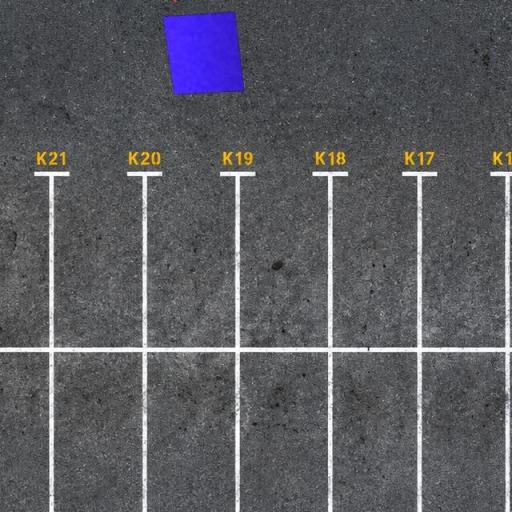BLUE_SQUARE: (162, 11, 246, 95)
